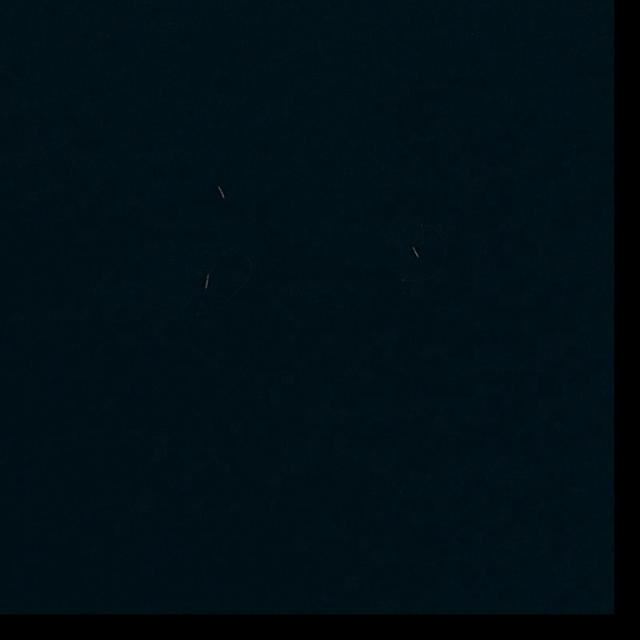ship: (204, 274, 212, 291), (411, 245, 420, 260), (218, 186, 226, 199)
